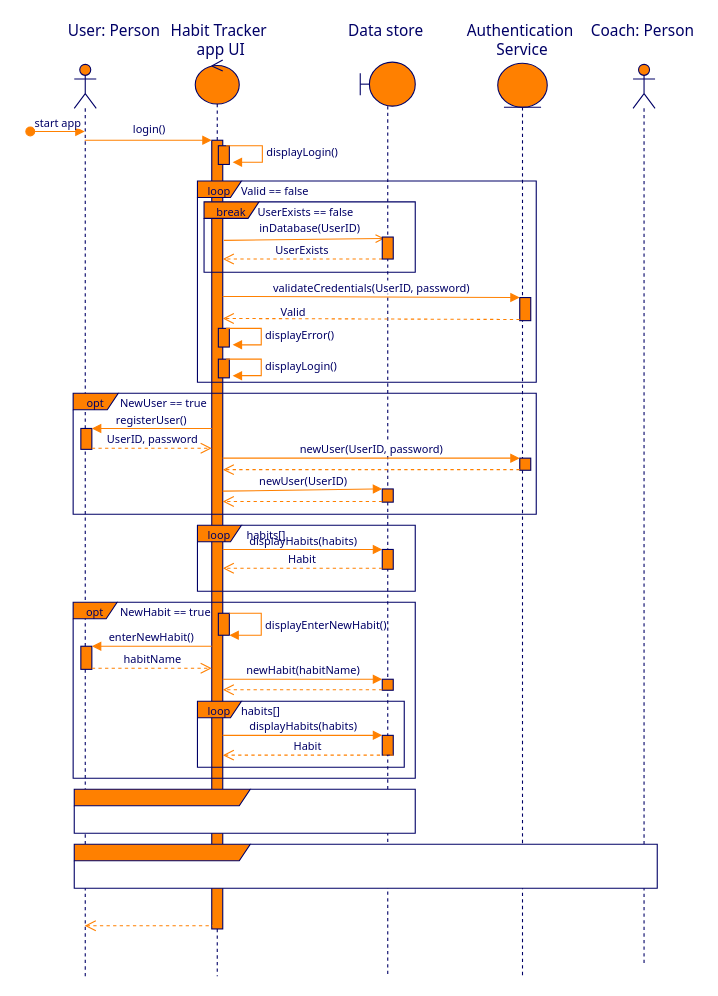
This 718x996 diagram has some shape labels left out. The centre of each missing label's shape, as x and y in pixels:
"SD checkin" belongs at (365,865).
"SD displayHabitHistory" belongs at (244,810).
